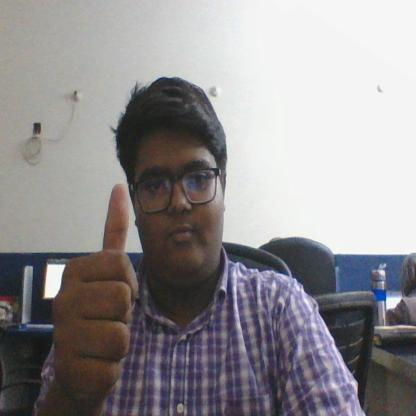thumbs-up: (59, 175, 148, 390)
